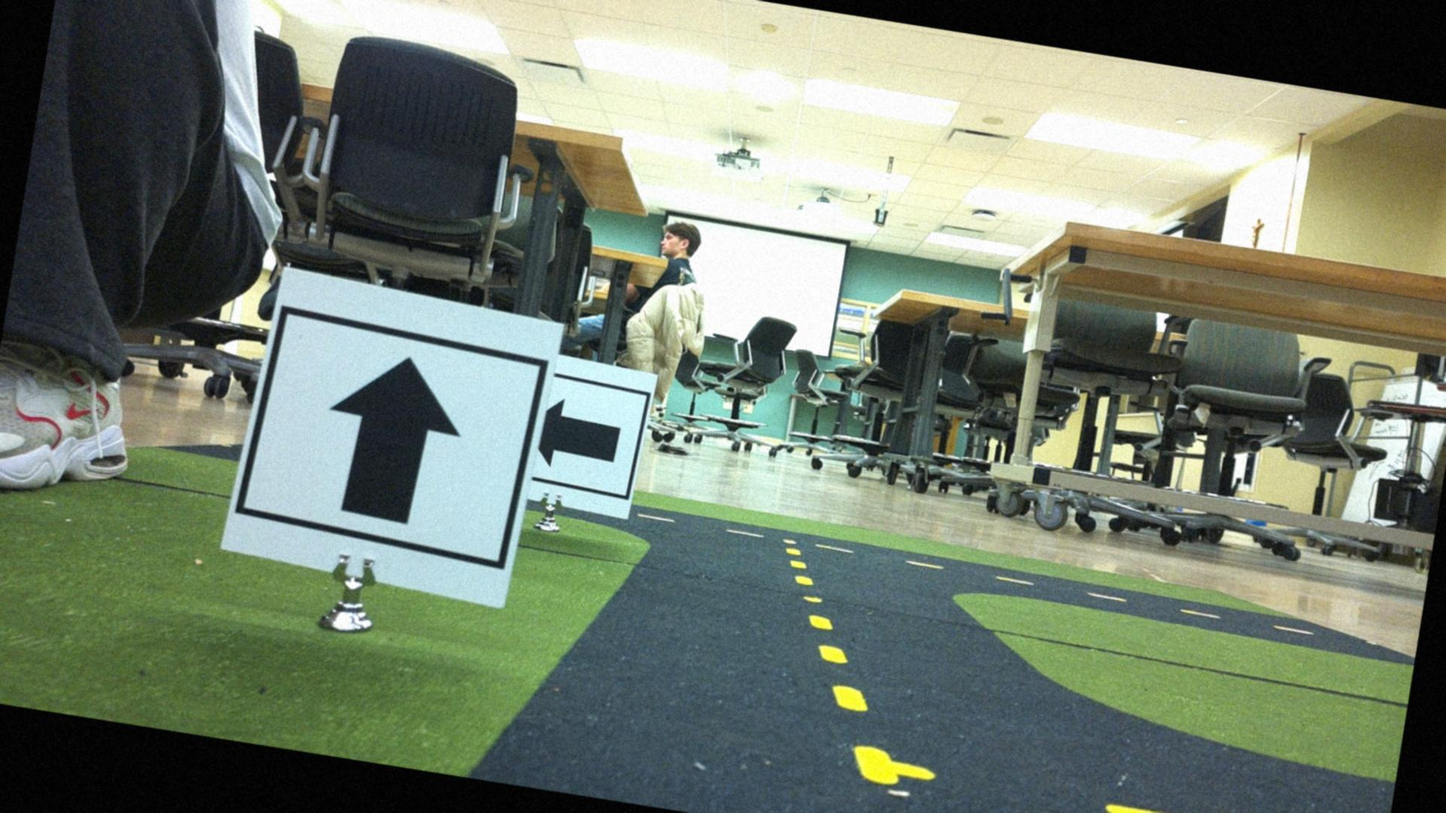gostraight: (227, 276, 541, 599)
turnleft: (535, 382, 654, 507)
yellowline: (750, 536, 926, 786)
